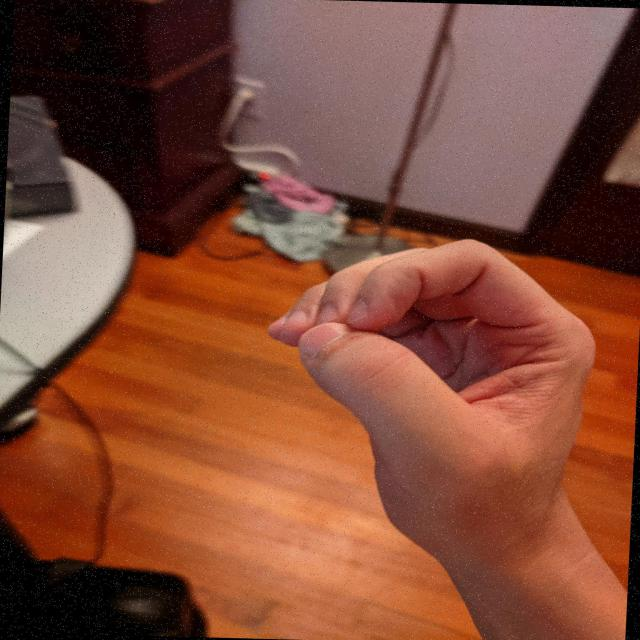O: (249, 227, 610, 563)
